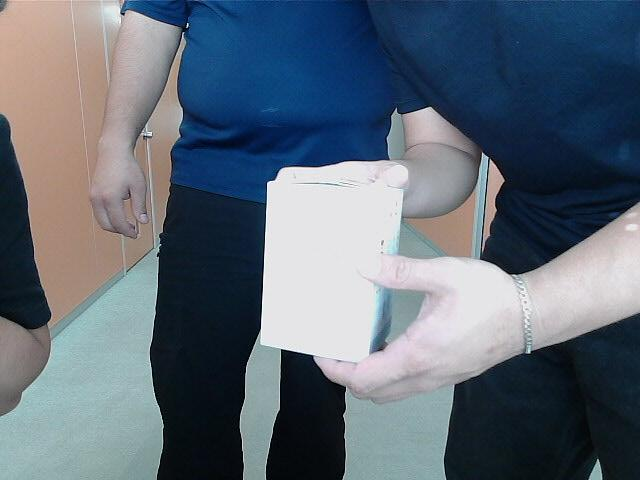Blind_box: (264, 168, 403, 366)
